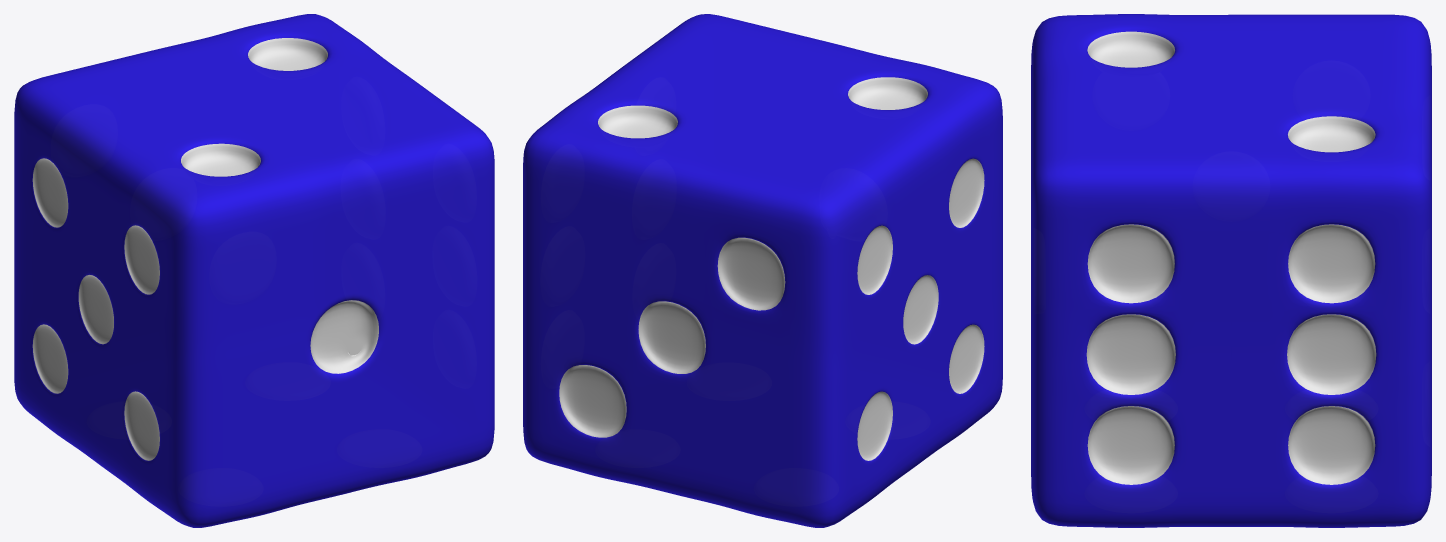
Rendered from dice.glb.
The picture shows the model from 3 angles, left to right: view 1: azimuth 30°, elevation 25°; view 2: azimuth 150°, elevation 25°; view 3: azimuth 270°, elevation 25°; orthographic projection. The views are drawn at different scales.
Parts seen in each view (by area): view 1: Dice; view 2: Dice; view 3: Dice.
Part boxes in pixels (x1,y1,x2,y2): Dice: [14, 14, 494, 527]; Dice: [523, 14, 1002, 527]; Dice: [1031, 14, 1431, 527].
Bounding box in the file's own units: 0.1049 × 0.1049 × 0.1049.
